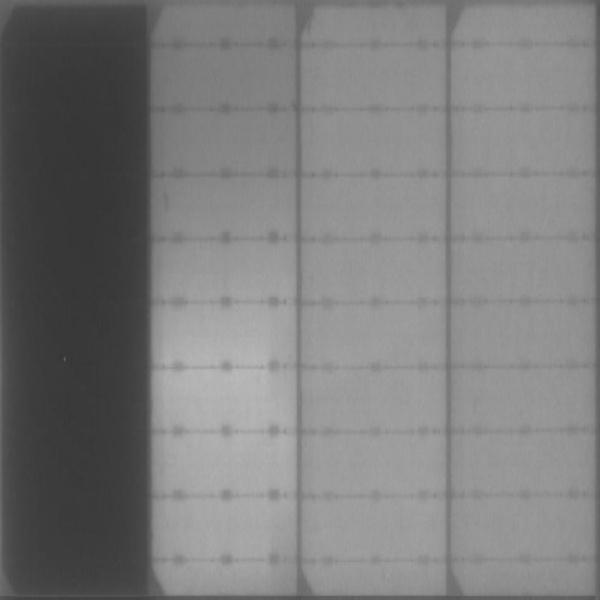no_electricity: (1, 1, 151, 594)
